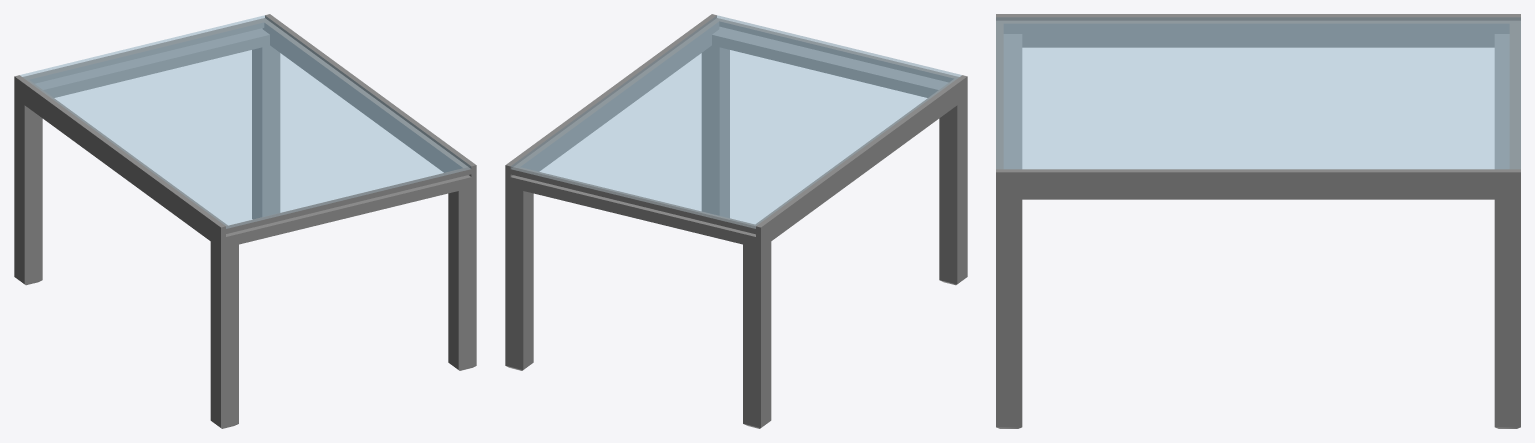
Rendered from TableDinningRoom.FBX.
3 views of the same model, side by side, from view 1: azimuth 30°, elevation 25°; view 2: azimuth 150°, elevation 25°; view 3: azimuth 270°, elevation 25° (orthographic). The views are drawn at different scales.
Parts seen in each view (by area): view 1: TableDR, TableDRBase; view 2: TableDR, TableDRBase; view 3: TableDR, TableDRBase.
Boxes of the visible parts, x1,y1,x2,y2 form: TableDR: (20,15,470,228); TableDRBase: (14,14,476,428); TableDR: (511,15,961,228); TableDRBase: (505,14,967,428); TableDR: (996,17,1520,169); TableDRBase: (996,14,1520,428).
Bounding box in the file's own units: 1 × 0.76 × 1.4.
